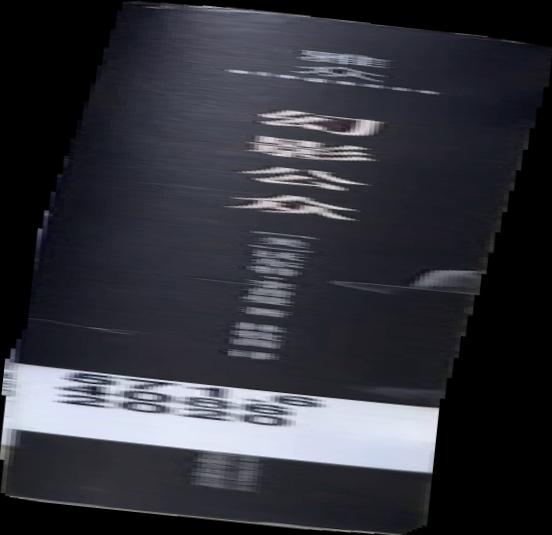book: (1, 1, 552, 535)
